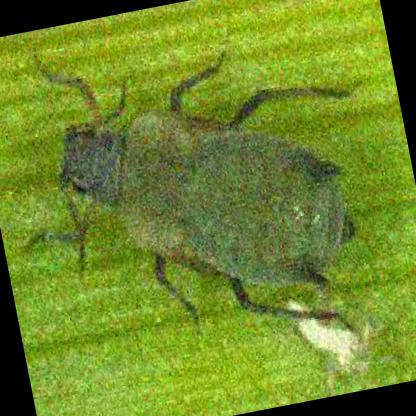schizaphis graminum: (41, 56, 354, 321)
